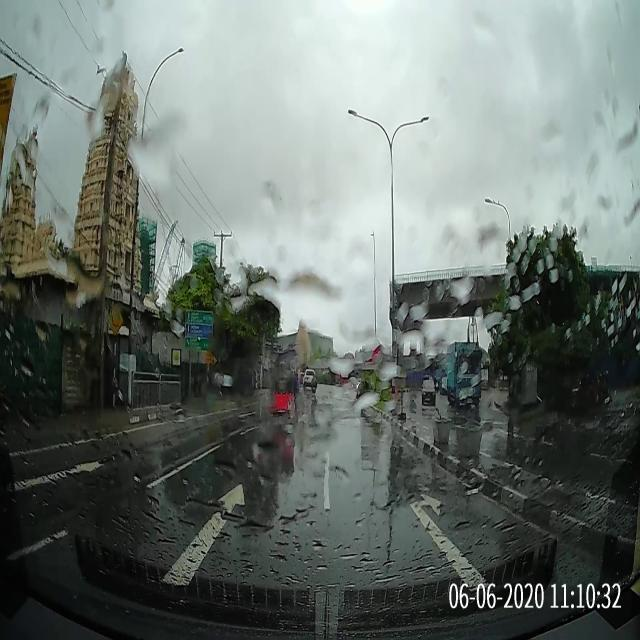forward: (18, 466, 333, 610)
right: (325, 476, 572, 613)
